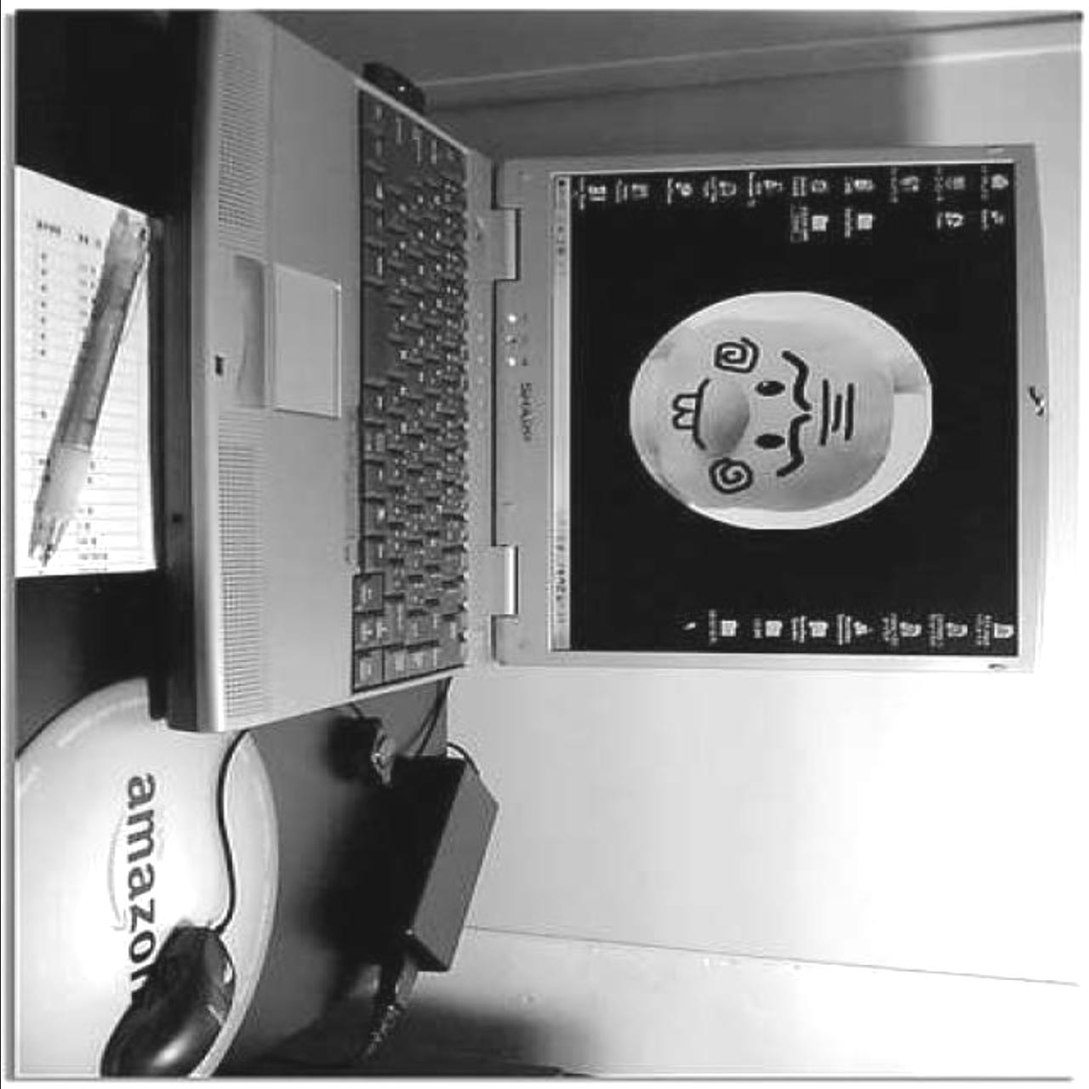laptop: (151, 44, 1053, 738)
